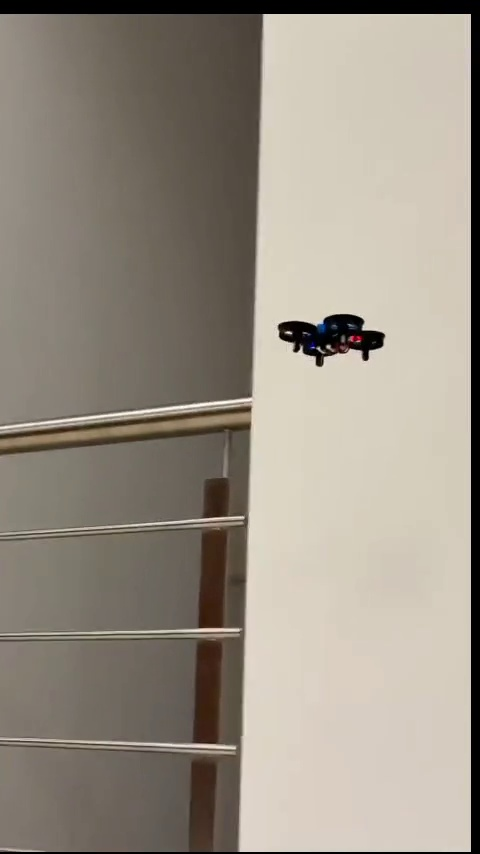drone: (280, 316, 387, 364)
